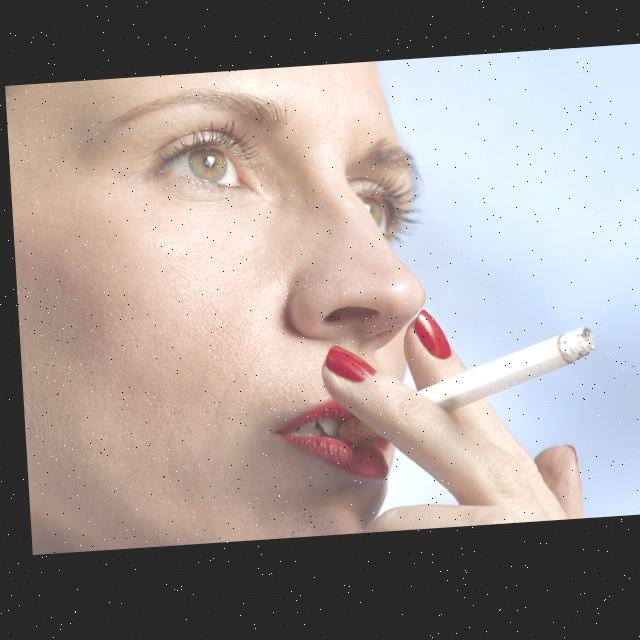cigarette: (409, 333, 595, 420)
